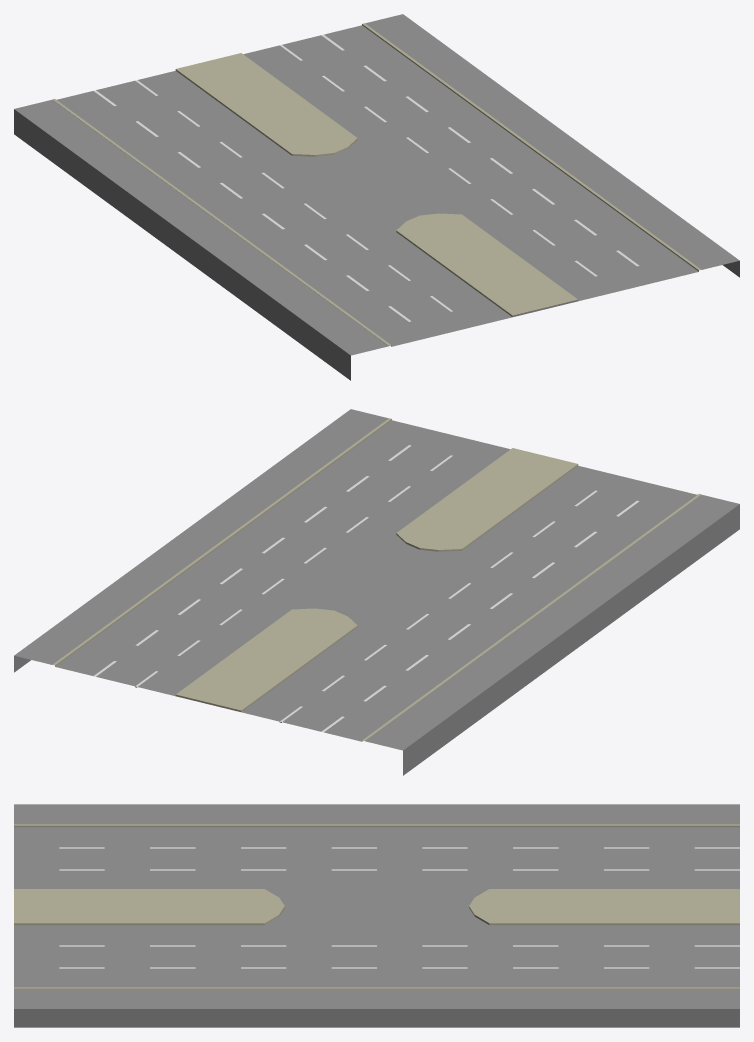
File: RoadPart1.fbx
3 views of the same model, one above another, from view 1: azimuth 30°, elevation 25°; view 2: azimuth 150°, elevation 25°; view 3: azimuth 270°, elevation 25° (orthographic). The views are drawn at different scales.
Parts seen in each view (by area): view 1: RoadPart1; view 2: RoadPart1; view 3: RoadPart1.
Boxes of the visible parts, x1,y1,x2,y2 form: RoadPart1: (14, 14, 739, 380); RoadPart1: (14, 409, 739, 775); RoadPart1: (14, 804, 739, 1027).
Bounding box in the file's own units: 3211 × 204 × 4817.
